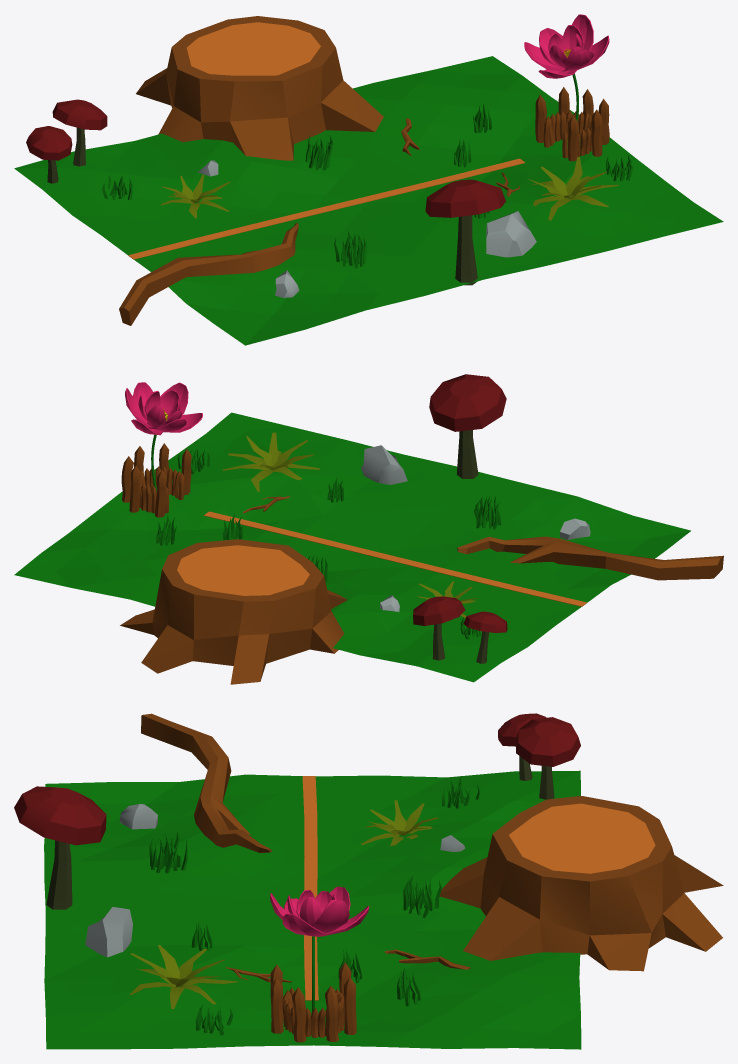
Rendered from Environment.FBX.
3 views of the same model, one above another, from view 1: azimuth 30°, elevation 25°; view 2: azimuth 150°, elevation 25°; view 3: azimuth 270°, elevation 25° (orthographic). The views are drawn at different scales.
Visible parts, largest first — view 1: Plane021, Cylinder004, SM_Mushroom2, Box010, Cylinder003, Object008, Plane003, Box007, Box008, Plane019, Plane020; view 2: Plane021, Cylinder004, SM_Mushroom2, Box010, Cylinder003, Object008, Plane003, Plane019, Box007, Box008, Box001; view 3: Plane021, Cylinder004, SM_Mushroom2, Box010, Cylinder003, Object008, Box007, Plane003, Plane019, Box008, Plane020, Box001 (+2 smaller).
Part boxes in pixels (x1,y1,x2,y2): Plane021: (14, 56, 723, 345); Cylinder004: (136, 16, 383, 160); SM_Mushroom2: (26, 99, 505, 285); Box010: (119, 223, 298, 325); Cylinder003: (535, 87, 609, 161); Object008: (524, 14, 609, 78); Plane003: (128, 158, 525, 259); Box007: (102, 134, 633, 268); Box008: (486, 211, 536, 257); Plane019: (528, 157, 618, 220); Plane020: (161, 174, 230, 218); Plane021: (14, 412, 690, 682); Cylinder004: (120, 539, 347, 684); SM_Mushroom2: (413, 374, 507, 663); Box010: (457, 536, 723, 580); Cylinder003: (121, 443, 191, 517); Object008: (125, 382, 202, 435); Plane003: (203, 511, 587, 606); Plane019: (222, 432, 319, 492); Box007: (178, 449, 501, 639); Box008: (361, 445, 407, 484); Box001: (560, 518, 590, 539); Plane021: (44, 770, 581, 1049); Cylinder004: (439, 796, 723, 971); SM_Mushroom2: (14, 713, 580, 909); Box010: (141, 713, 272, 852); Cylinder003: (270, 962, 356, 1042); Object008: (270, 886, 369, 936); Box007: (149, 776, 479, 1035); Plane003: (302, 776, 318, 1000); Plane019: (129, 945, 237, 1008); Box008: (85, 907, 132, 957); Plane020: (361, 800, 438, 845); Box001: (119, 804, 157, 829).
Size of the model in its own units: 31.97 by 7.15 by 30.27.
